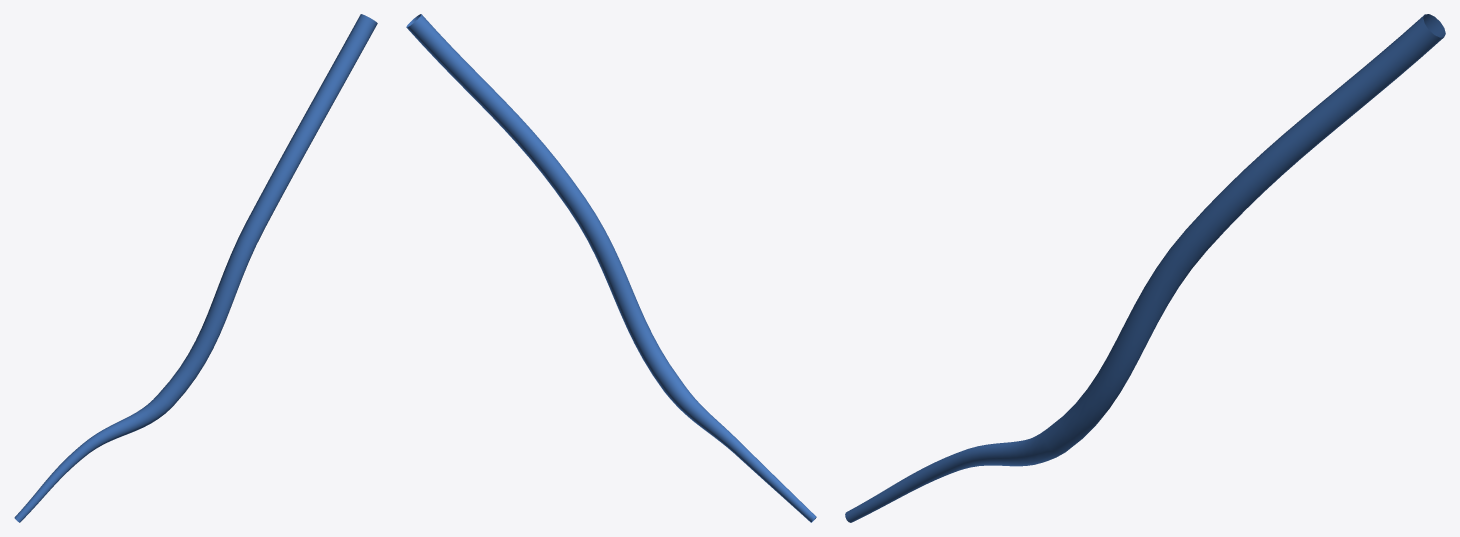
3 views of the same model, side by side, from view 1: azimuth 30°, elevation 25°; view 2: azimuth 150°, elevation 25°; view 3: azimuth 330°, elevation 25° (orthographic). The views are drawn at different scales.
Parts seen in each view (by area): view 1: 左侧上唇静脉; view 2: 左侧上唇静脉; view 3: 左侧上唇静脉.
Part boxes in pixels (x1,y1,x2,y2): 左侧上唇静脉: (14,14,377,522); 左侧上唇静脉: (406,14,816,522); 左侧上唇静脉: (845,14,1445,522).
Size of the model in its own units: 0.0326 by 0.0338 by 0.0051.
